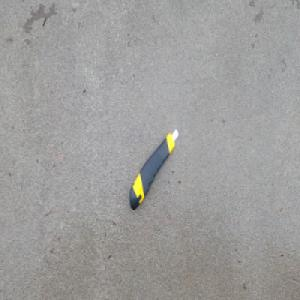Cutter: (128, 126, 179, 210)
